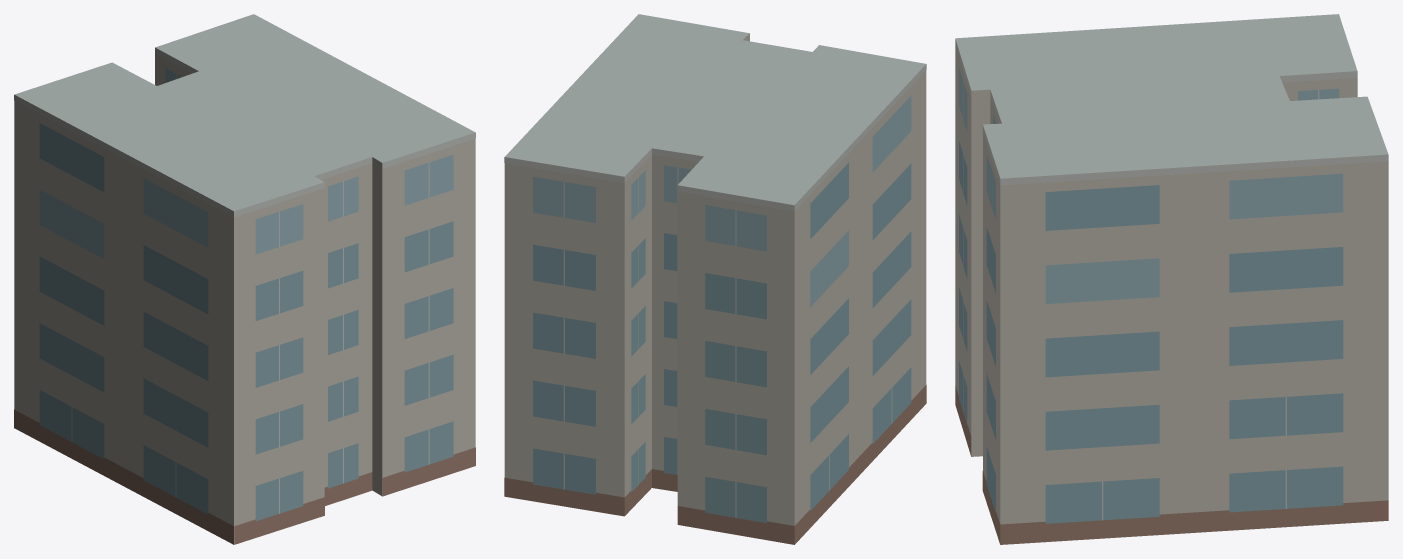
The model's file is survey-upis-32837528.glb.
3 views of the same model, side by side, from view 1: azimuth 30°, elevation 25°; view 2: azimuth 150°, elevation 25°; view 3: azimuth 270°, elevation 25° (orthographic). The views are drawn at different scales.
Visible parts, largest first — view 1: survey-upis-32837528.tmp; view 2: survey-upis-32837528.tmp; view 3: survey-upis-32837528.tmp.
Boxes of the visible parts, x1,y1,x2,y2 form: survey-upis-32837528.tmp: [14, 14, 475, 544]; survey-upis-32837528.tmp: [504, 14, 926, 544]; survey-upis-32837528.tmp: [955, 14, 1388, 544].
Bounding box in the file's own units: 12.98 × 13.45 × 14.43.
